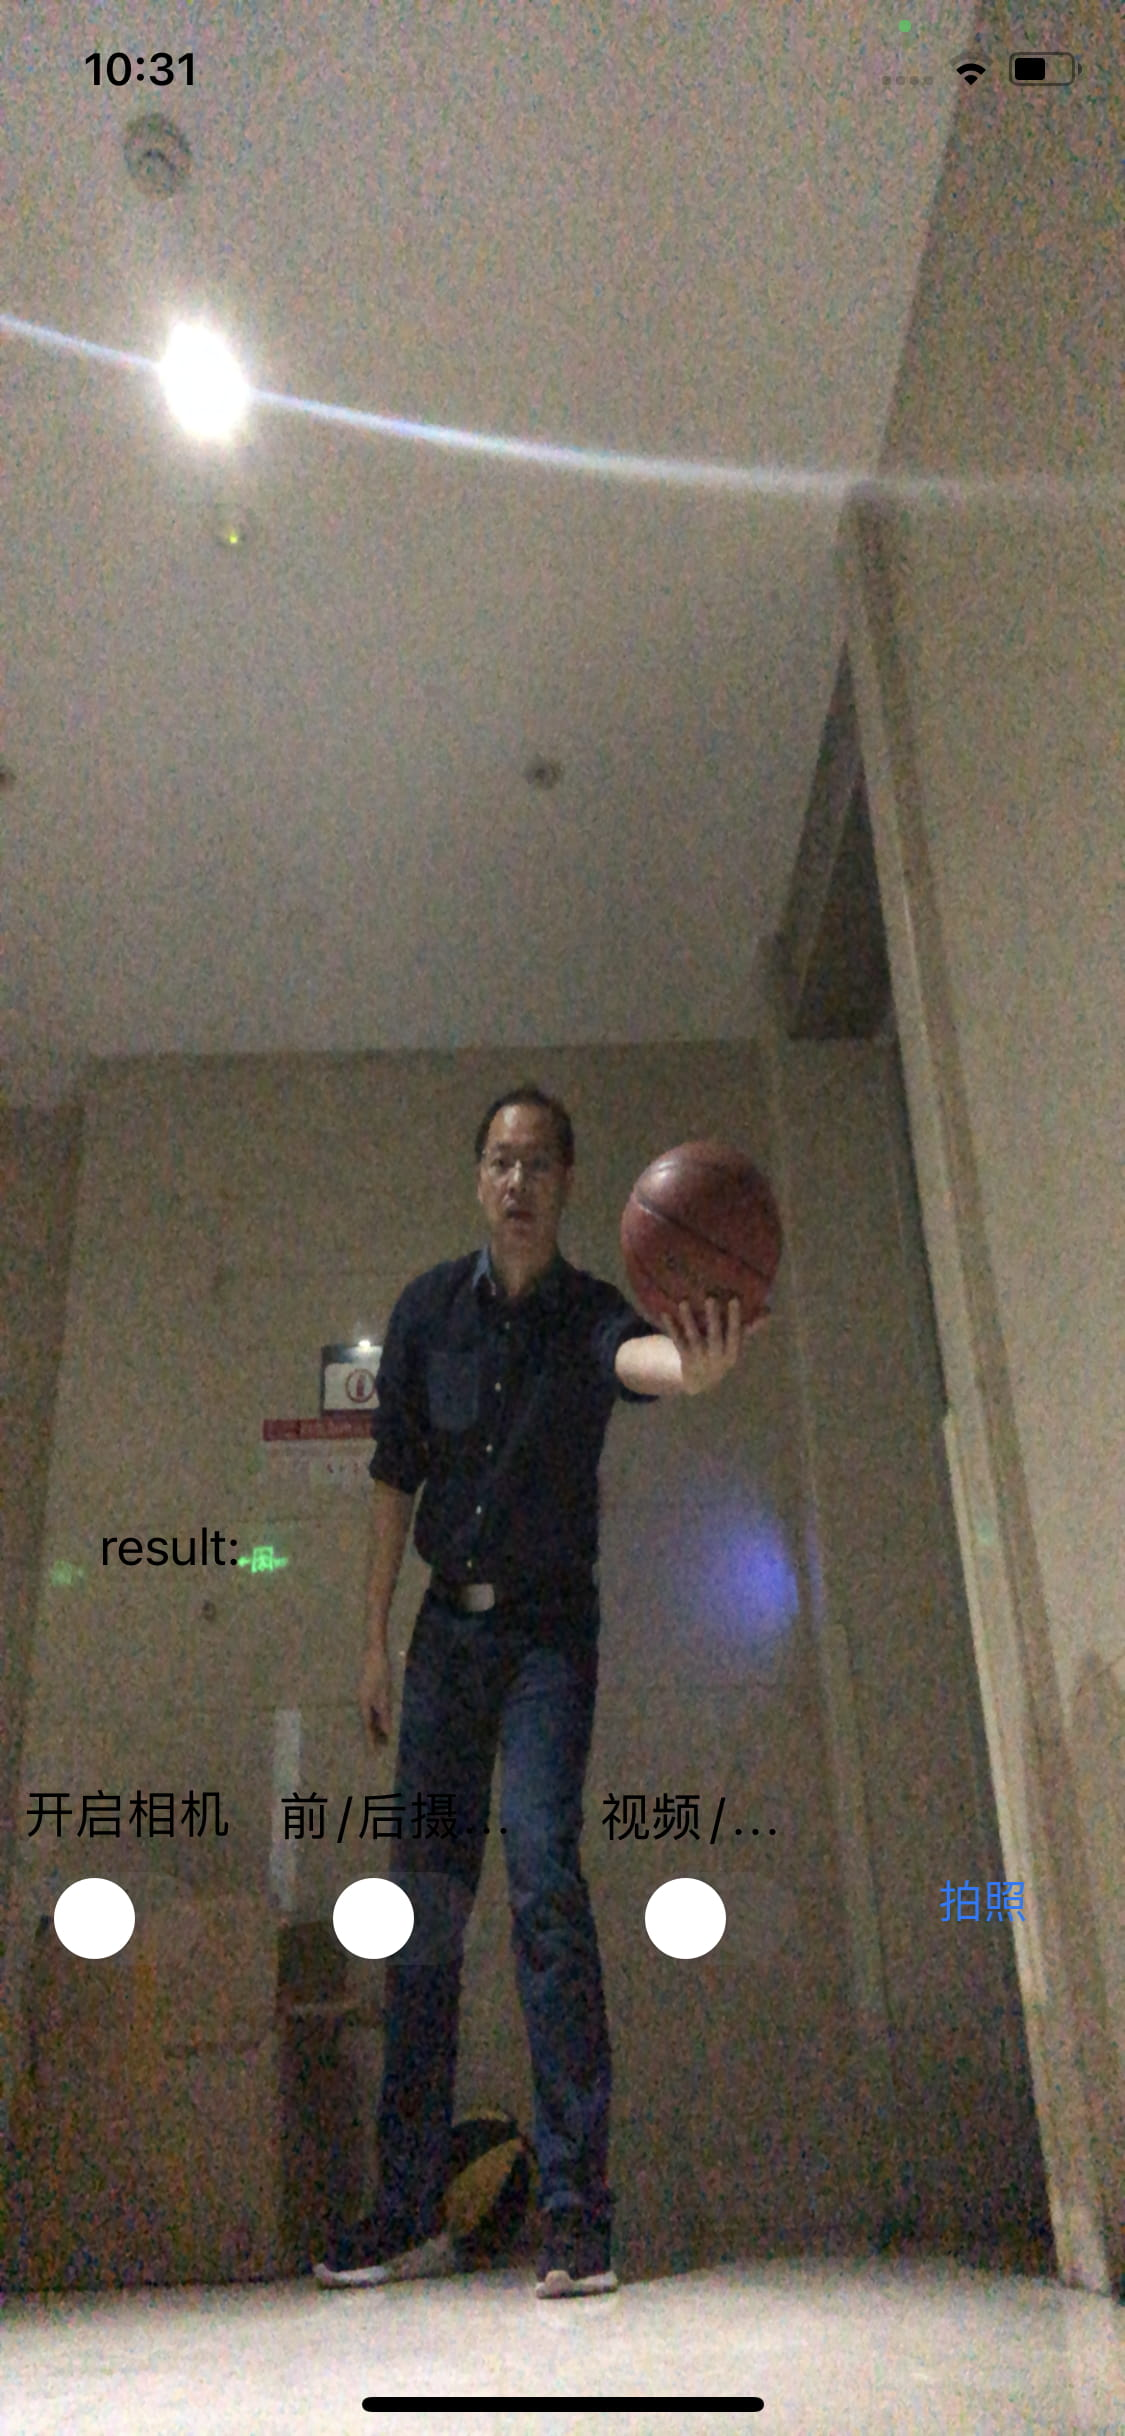ball: (618, 1139, 783, 1331)
